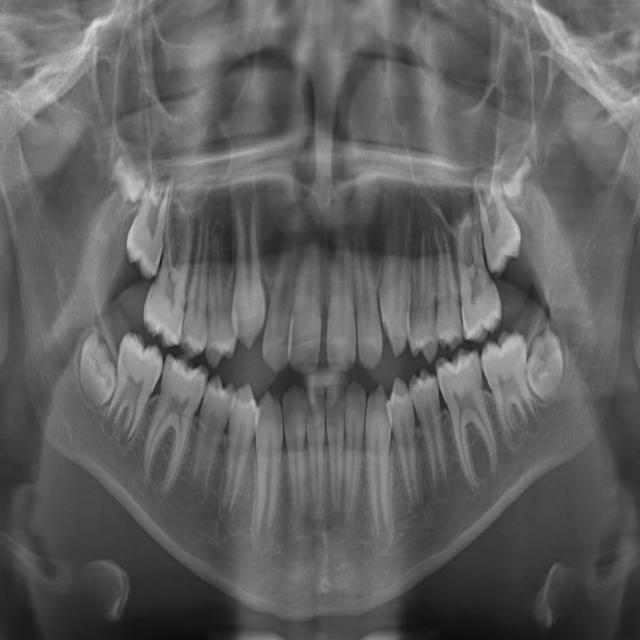3M ESPE Implant: (109, 131, 160, 208)
AGS Medikal Implant: (351, 201, 385, 374)
AMerOss Implant: (376, 167, 418, 361)
Amalgam filling: (408, 192, 446, 366)
Anthogyr Implant: (424, 193, 464, 352)
Bicon Implant: (450, 204, 507, 348)
BioHorizons Implant: (465, 156, 532, 282)
BioLife Implant: (497, 150, 537, 202)
Biomet 3i Implant: (524, 323, 569, 409)
Blue Sky Bio Implant: (474, 326, 547, 458)
Camlog Implant: (432, 347, 510, 499)
Caries: (123, 172, 175, 284)
Composite filling: (404, 364, 465, 505)
Cowellmedi Implant: (385, 369, 425, 521)
Crown: (364, 381, 392, 557)
DENTSPLY Implant: (342, 381, 367, 537)
Dentatus Implant: (324, 381, 345, 525)
Dentis Implant: (304, 385, 329, 531)
Dentium Implant: (283, 383, 311, 540)
Euroteknika Implant: (250, 385, 284, 560)
Filling: (211, 376, 263, 532)
Frontier Implant: (181, 371, 237, 513)
Hiossen Implant: (139, 201, 202, 350)
Implant: (122, 413, 122, 414)
Implant Direct: (122, 349, 214, 506)
Keystone Dental Implant: (76, 327, 118, 412)
MIS Implant: (178, 191, 229, 360)
Mandible: (204, 218, 244, 373)
Maxilla: (224, 153, 269, 354)
Megagen Implant: (258, 188, 314, 375)
Neodent Implant: (288, 216, 330, 382)
Neoss Implant: (327, 210, 358, 373)
